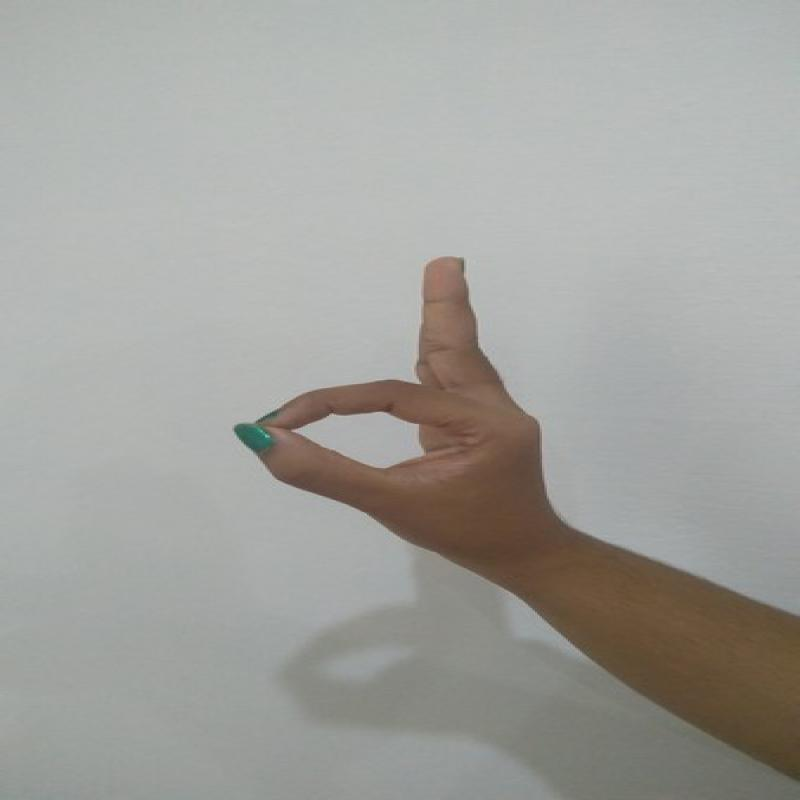Mudraakhyam: (222, 242, 565, 612)
